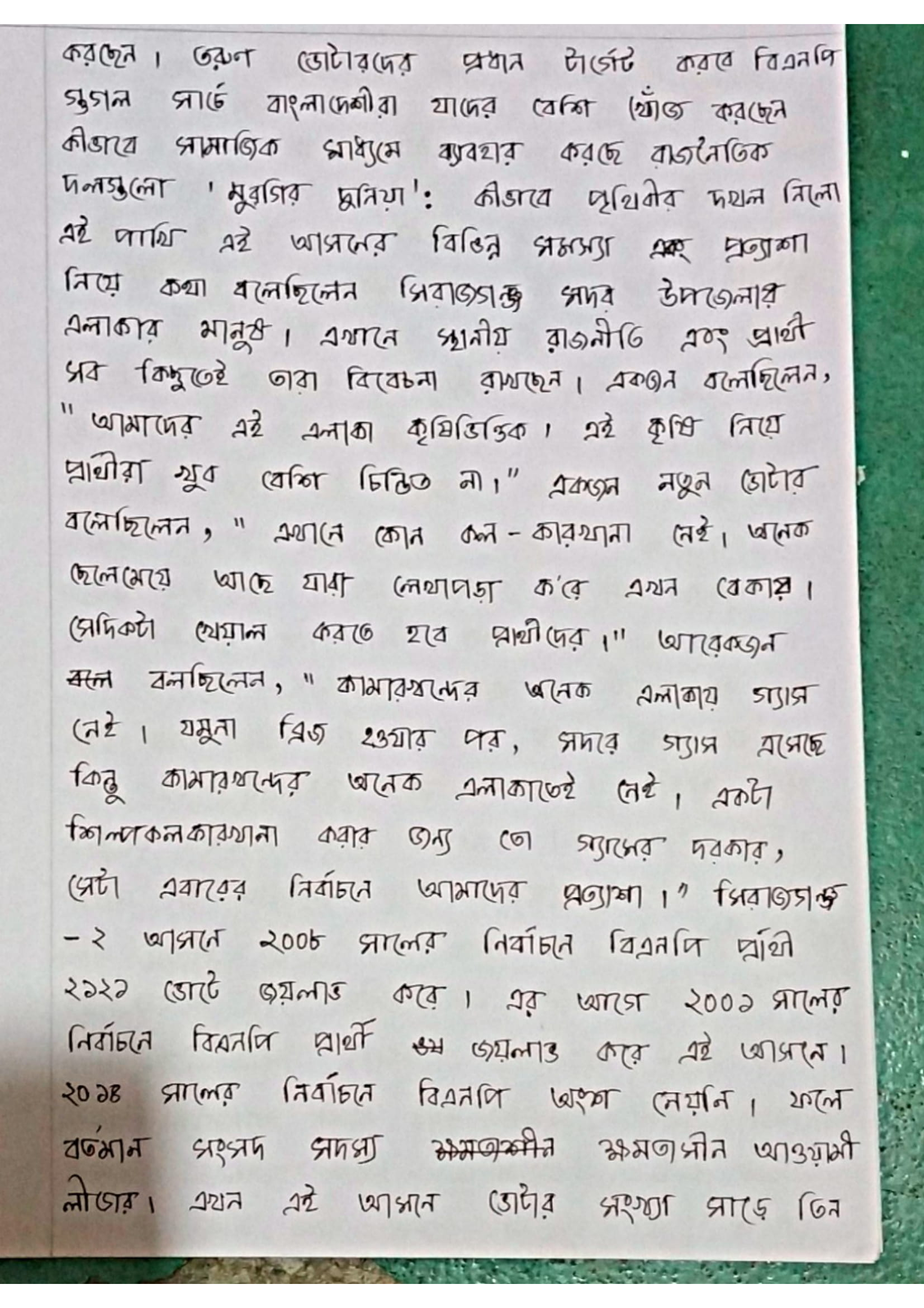line: (63, 867, 847, 919), (67, 450, 819, 503), (67, 608, 789, 663), (58, 1125, 860, 1173), (64, 263, 786, 316), (63, 1177, 843, 1226), (65, 813, 785, 866), (69, 660, 816, 711), (60, 969, 852, 1017), (72, 715, 831, 764), (65, 500, 816, 549), (58, 1072, 851, 1118), (62, 215, 809, 262), (65, 82, 788, 130), (64, 1020, 850, 1064), (75, 761, 775, 809), (60, 125, 774, 172), (62, 176, 843, 218), (63, 311, 812, 353), (59, 40, 841, 80), (64, 402, 786, 445), (64, 355, 830, 395), (63, 923, 793, 962), (71, 567, 817, 602)
